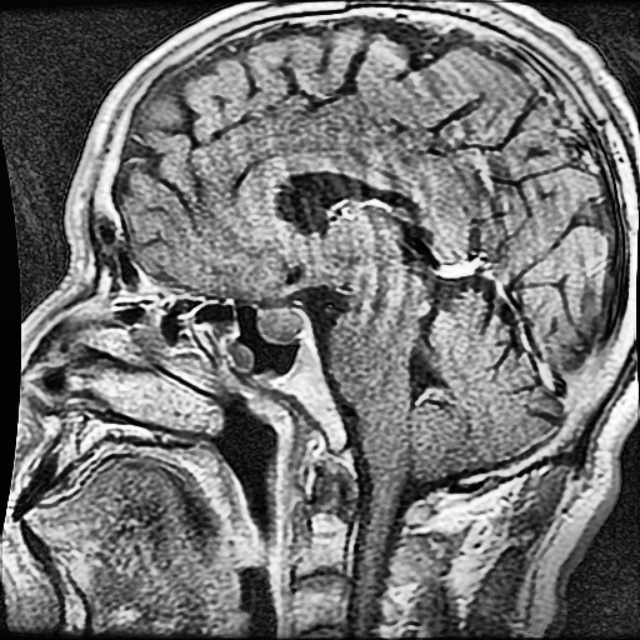Pituitary: (258, 305, 304, 344)
